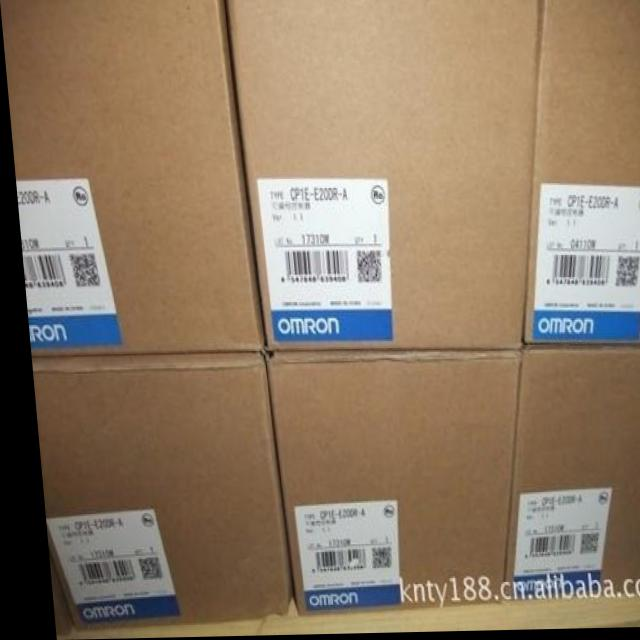box: (226, 0, 542, 353), (0, 0, 259, 358), (25, 354, 282, 631), (258, 351, 514, 617), (493, 347, 640, 603)
